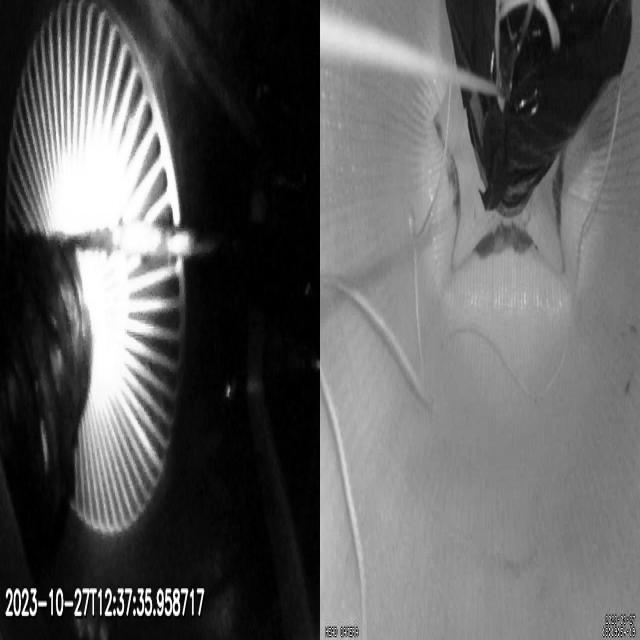red-circle: (432, 116, 566, 260)
